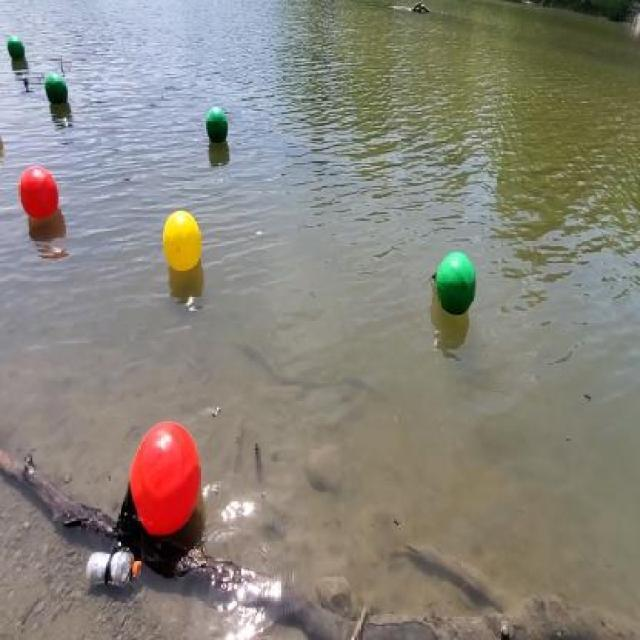buoy: (116, 420, 201, 537), (432, 251, 476, 317), (162, 208, 201, 272), (18, 164, 60, 221), (206, 106, 228, 145), (44, 71, 68, 104), (6, 36, 26, 61)
